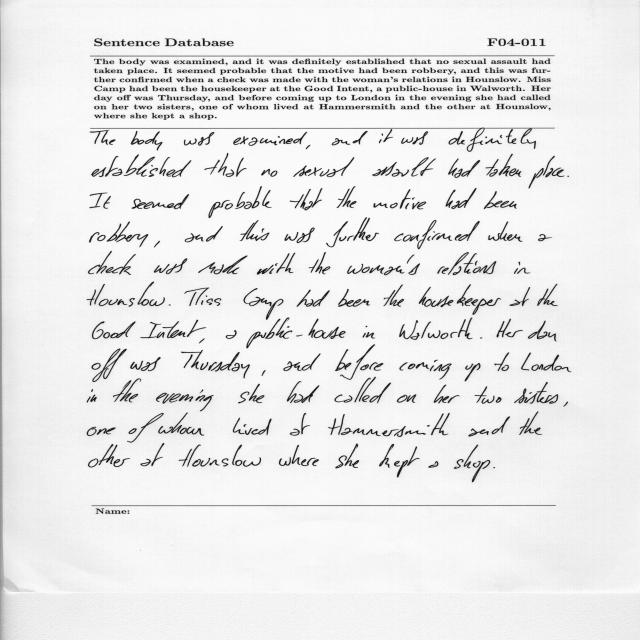word: (246, 318, 346, 348), (328, 413, 450, 437), (419, 284, 501, 315), (394, 220, 480, 249), (92, 155, 192, 178), (448, 129, 536, 152), (208, 187, 272, 218), (87, 282, 165, 307), (181, 350, 250, 378), (179, 444, 261, 467), (335, 345, 383, 380), (399, 318, 473, 340), (326, 218, 379, 248), (334, 377, 391, 403), (347, 255, 420, 275), (90, 222, 148, 247), (438, 252, 497, 275), (379, 444, 420, 477), (454, 445, 490, 482), (372, 157, 436, 177), (244, 288, 284, 320), (140, 320, 206, 339), (156, 390, 213, 412), (294, 157, 355, 177), (92, 349, 127, 382), (529, 156, 565, 188), (88, 251, 136, 275), (127, 413, 164, 443), (374, 190, 427, 210), (158, 413, 204, 436), (233, 132, 307, 146), (205, 153, 247, 177), (400, 360, 452, 379), (521, 353, 572, 372), (514, 382, 558, 404), (198, 256, 248, 275), (89, 444, 130, 467), (132, 194, 189, 209), (468, 417, 510, 437), (257, 253, 295, 275), (486, 154, 522, 177), (93, 321, 136, 339), (290, 188, 323, 211), (287, 382, 319, 404), (488, 222, 522, 242), (113, 379, 141, 403), (185, 288, 222, 306), (446, 188, 477, 209), (283, 354, 321, 371), (233, 418, 271, 435), (448, 158, 480, 178), (240, 220, 270, 241), (528, 321, 557, 342), (131, 131, 163, 150), (185, 226, 223, 242), (335, 444, 359, 469), (484, 191, 517, 209), (338, 289, 370, 307), (292, 445, 319, 466), (297, 290, 330, 307), (140, 443, 164, 466), (519, 412, 542, 435), (154, 259, 187, 275), (332, 131, 368, 145), (238, 384, 264, 403), (475, 386, 502, 404), (434, 385, 459, 404), (497, 319, 523, 337), (309, 252, 330, 274), (383, 285, 404, 307), (537, 284, 558, 306), (290, 413, 310, 436), (285, 228, 315, 243), (337, 186, 357, 208), (130, 357, 161, 371), (184, 132, 214, 146), (510, 287, 531, 306), (90, 130, 116, 145), (401, 131, 428, 145), (90, 193, 111, 209), (495, 352, 510, 371), (465, 363, 480, 381), (87, 427, 116, 436), (379, 129, 393, 143), (514, 262, 530, 274), (397, 394, 416, 403), (363, 326, 375, 339), (87, 389, 97, 403), (261, 169, 278, 177), (279, 457, 291, 466), (226, 330, 237, 339), (538, 234, 552, 241), (429, 461, 439, 468), (154, 241, 160, 247), (199, 339, 205, 344), (563, 402, 568, 407), (262, 370, 266, 376), (306, 145, 311, 149), (480, 338, 483, 339), (567, 176, 569, 177), (169, 305, 171, 306), (494, 467, 496, 468)
